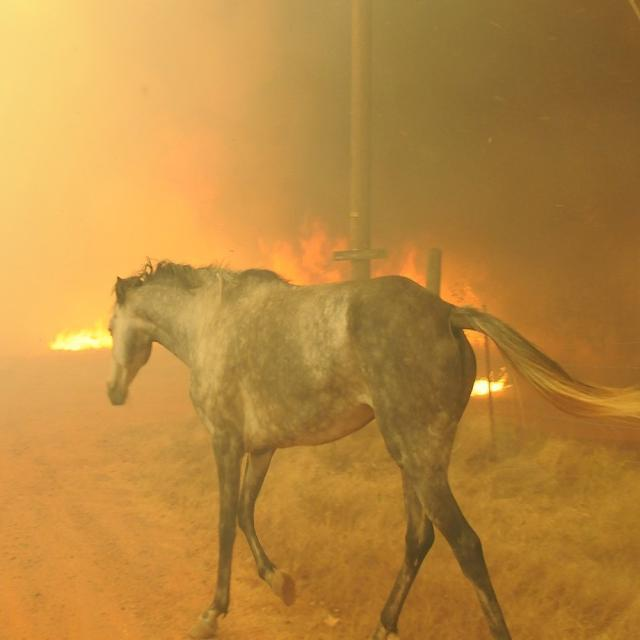Fire: (249, 227, 462, 279), (51, 304, 104, 377), (466, 342, 514, 414)
Smoke: (227, 0, 640, 216), (6, 19, 212, 211)
